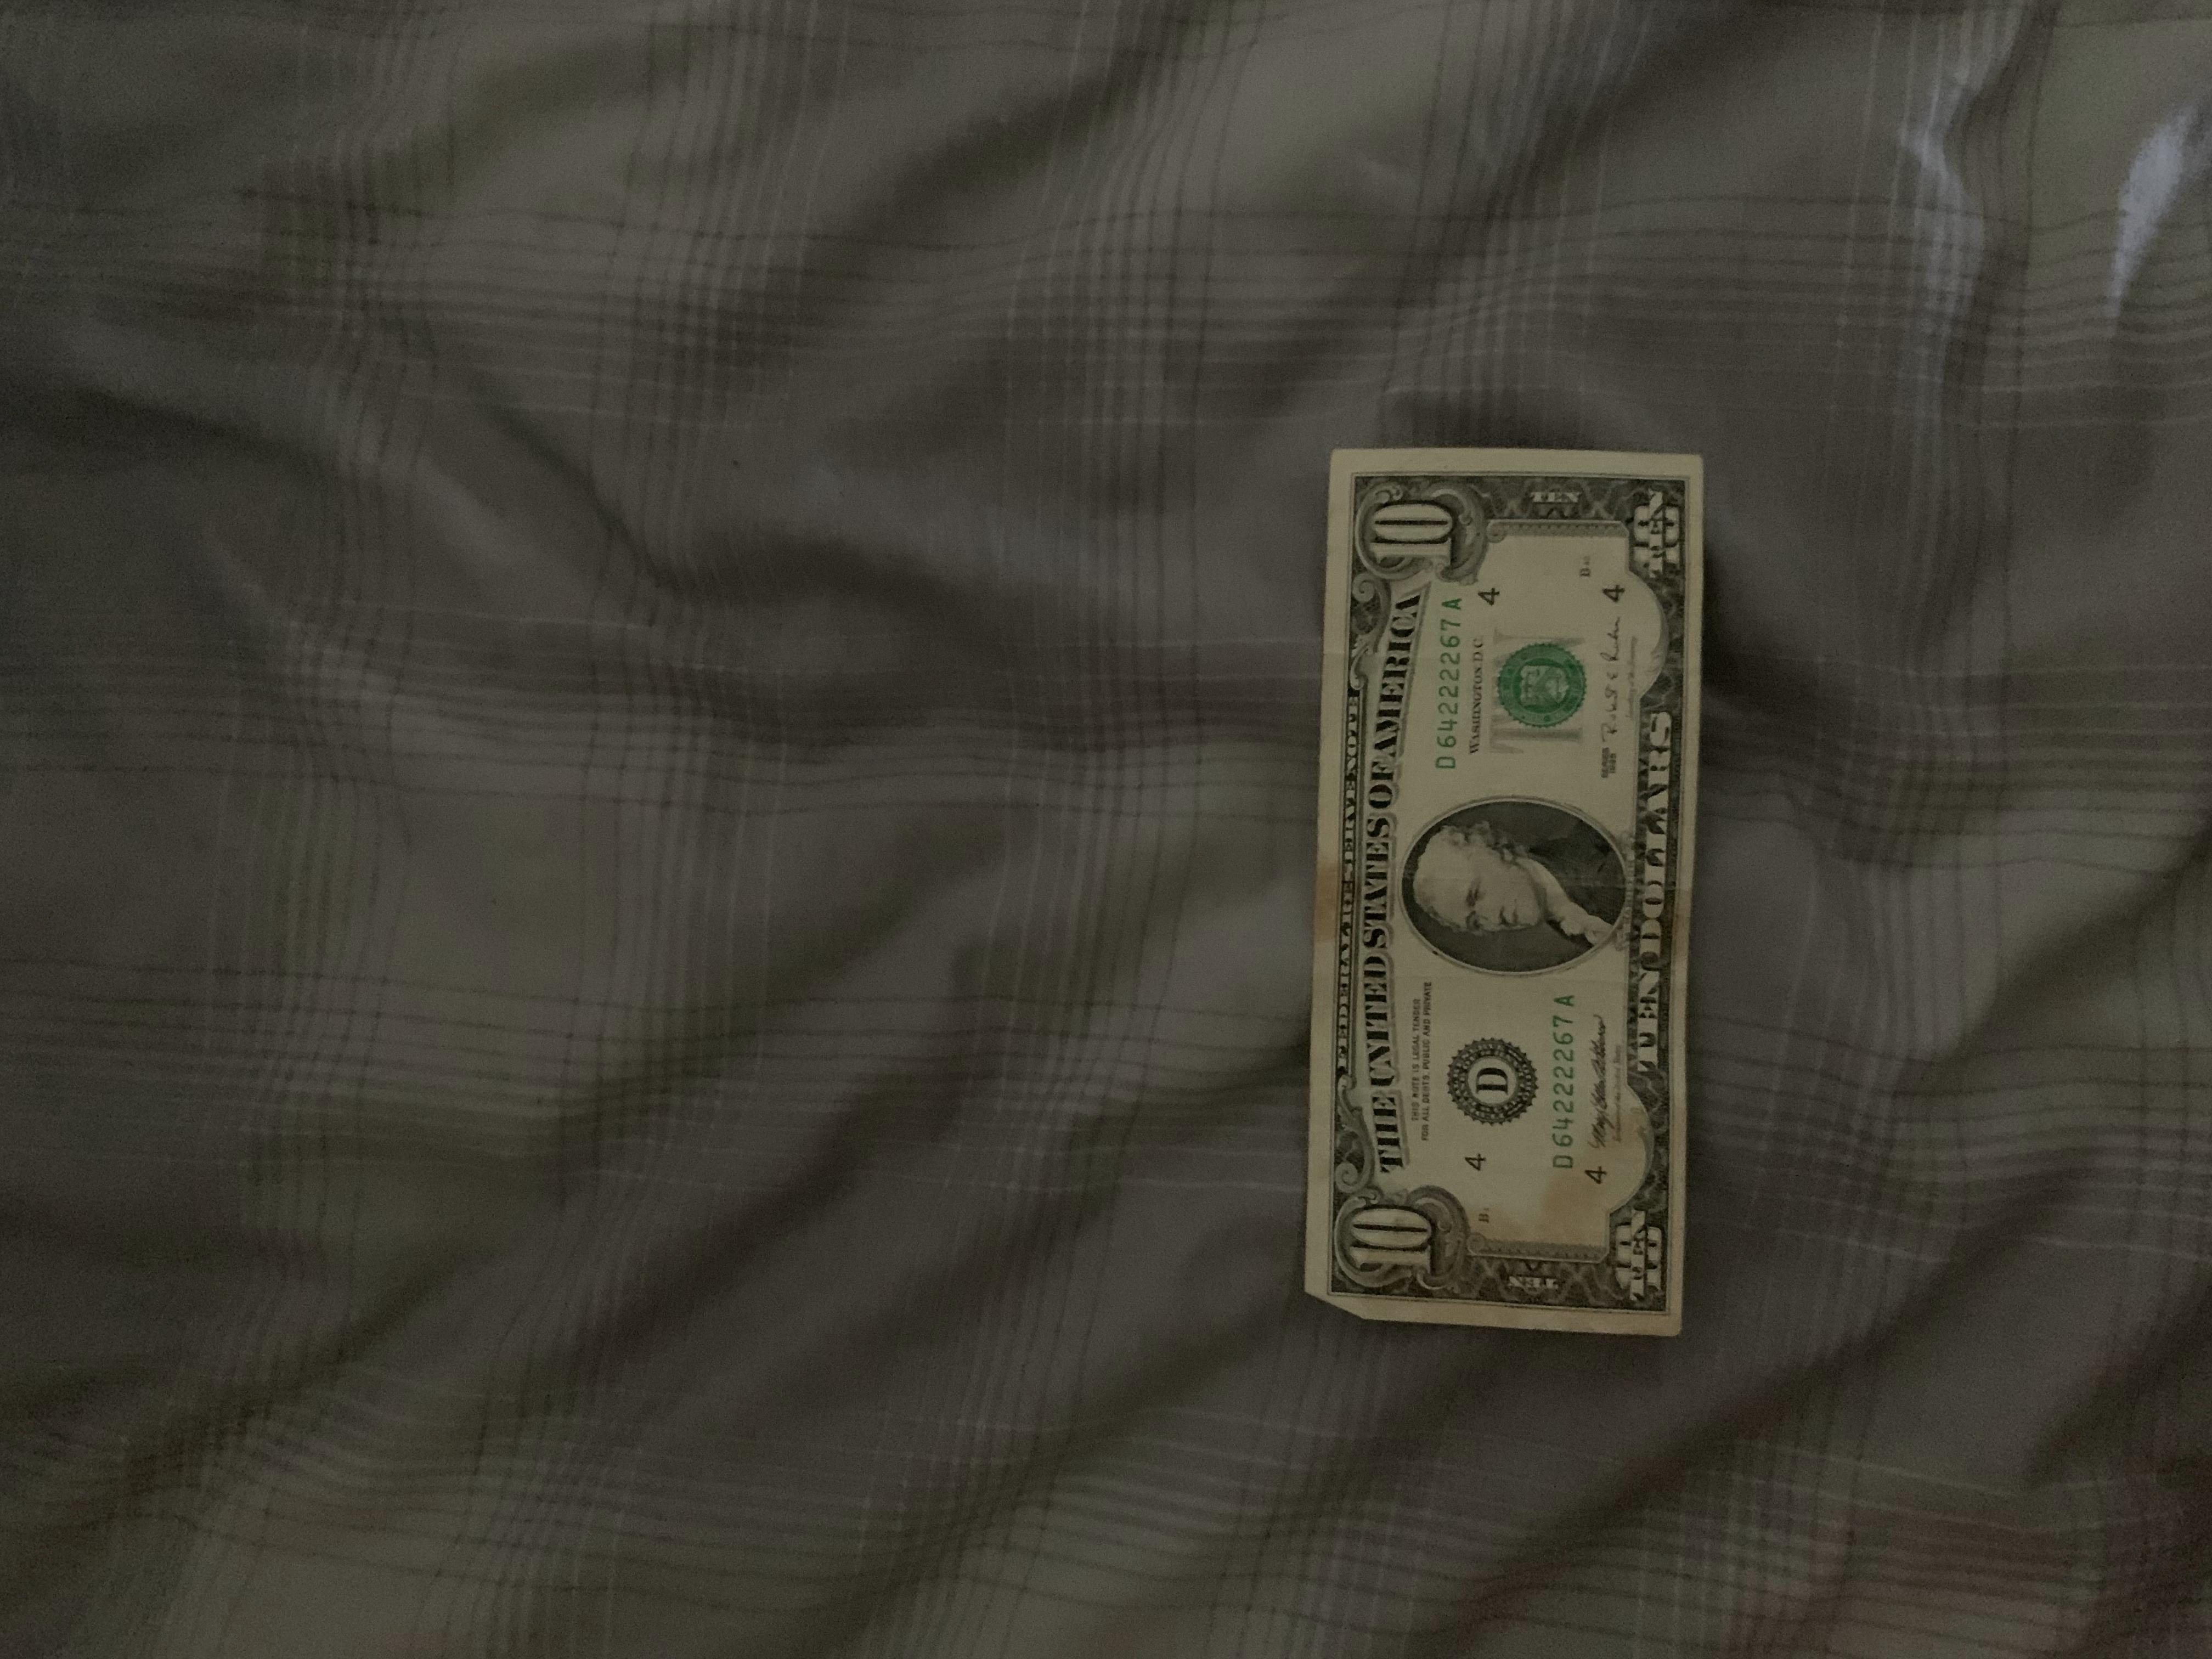TenBill: (1301, 444, 1710, 1342)
